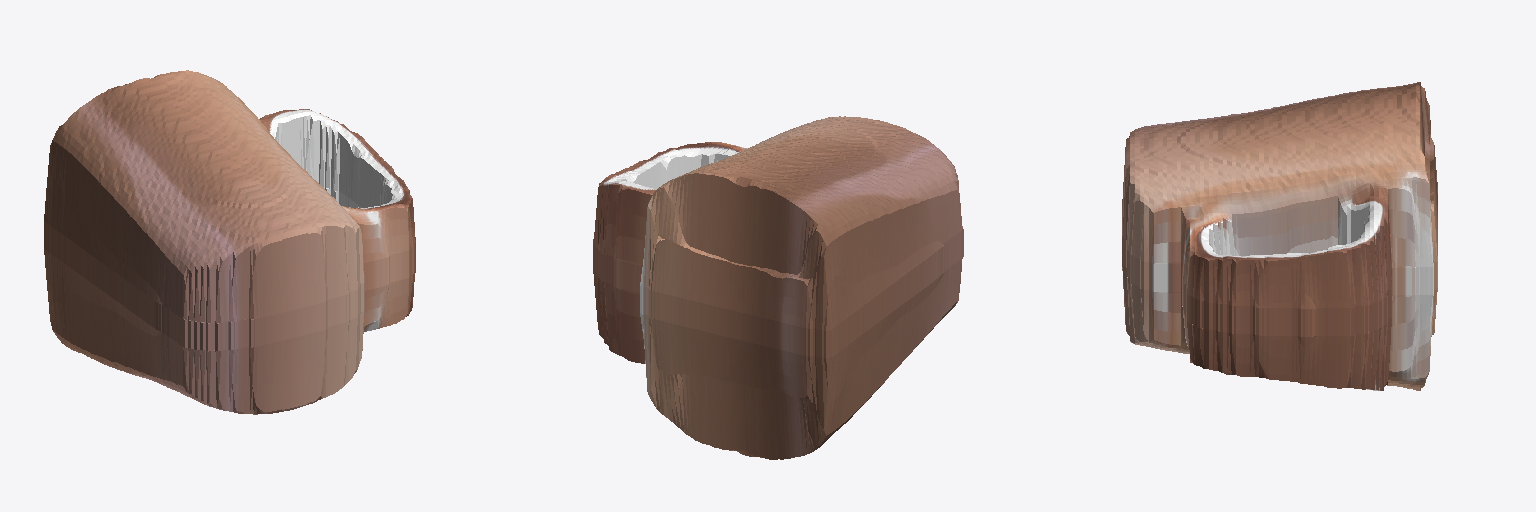
3 views of the same model, side by side, from view 1: azimuth 30°, elevation 25°; view 2: azimuth 150°, elevation 25°; view 3: azimuth 270°, elevation 25° (orthographic).
Parts seen in each view (by area): view 1: Grid; view 2: Grid; view 3: Grid.
Part boxes in pixels (x1,y1,x2,y2): Grid: (44,70,415,414); Grid: (593,116,963,459); Grid: (1122,82,1437,390).
Size of the model in its own units: 1.45 by 1.4 by 1.44.
2 materials, 1 textured.